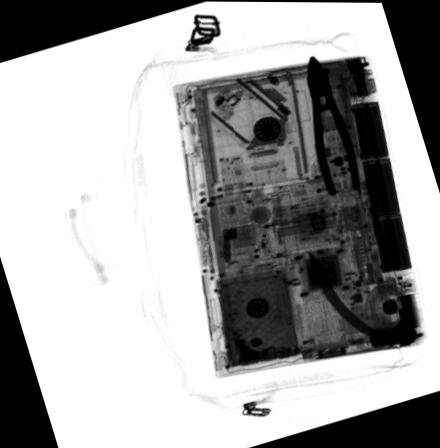Pliers: (305, 51, 361, 196)
